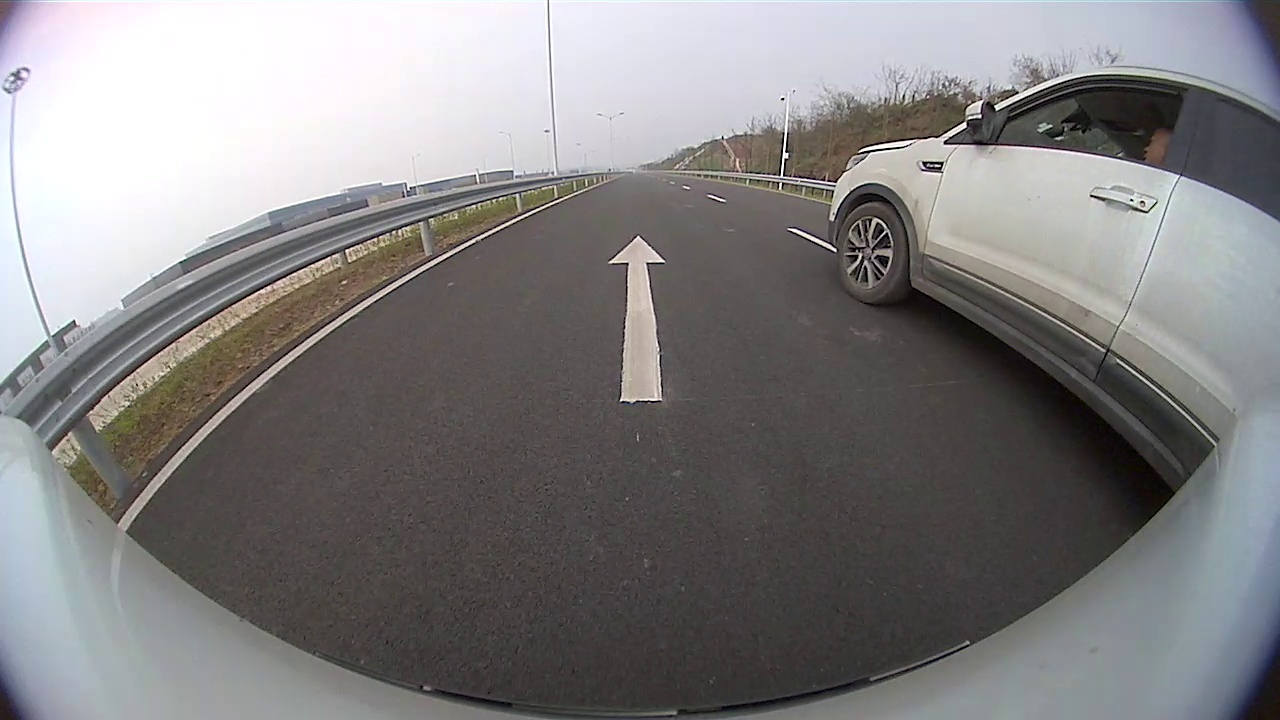car: (824, 63, 1264, 498)
front: (835, 201, 913, 306)
